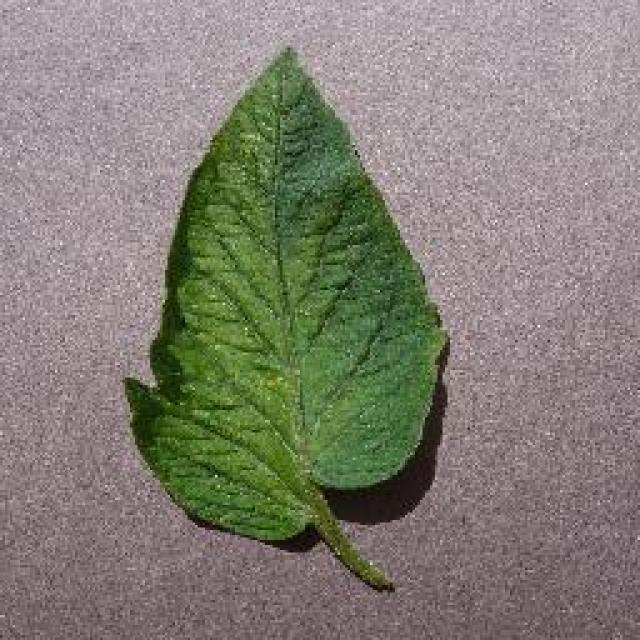Tomato___Spider_mites Two-spotted_spider_mite: (125, 50, 445, 588)
